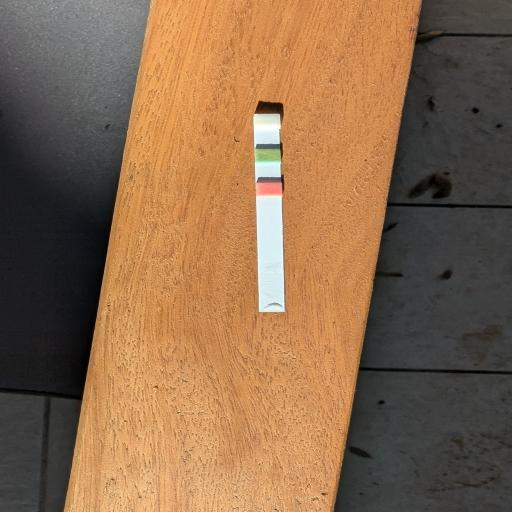strip: (254, 114, 286, 312)
